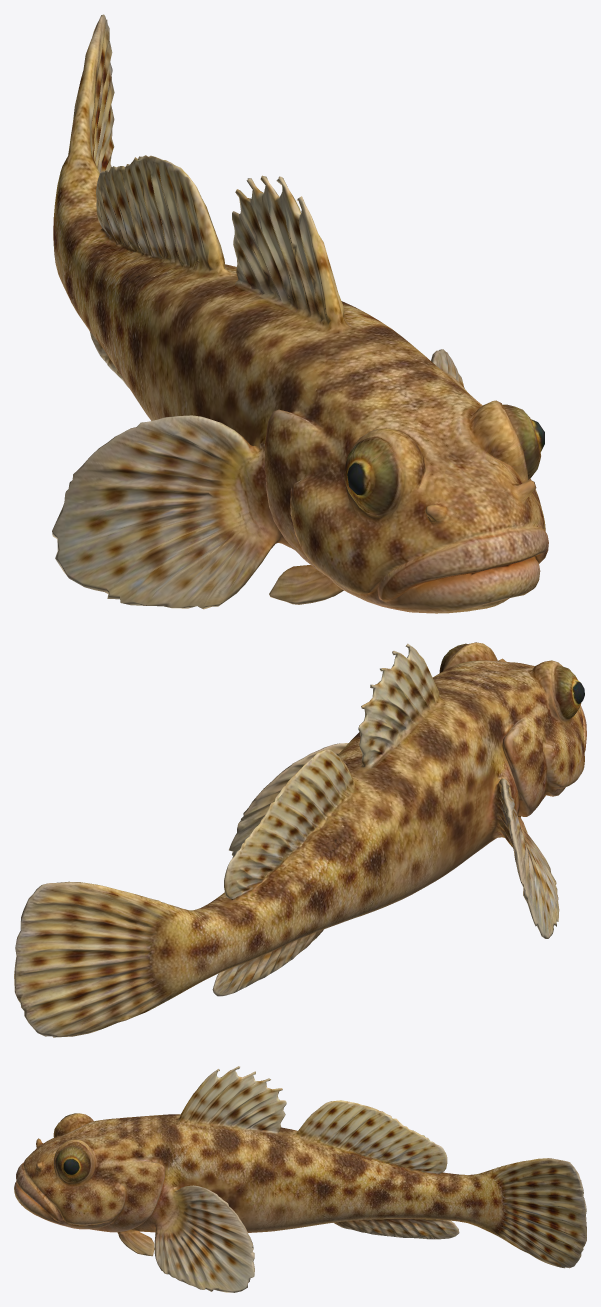
The model's file is Goby.obj.
3 views of the same model, one above another, from view 1: azimuth 30°, elevation 25°; view 2: azimuth 150°, elevation 25°; view 3: azimuth 270°, elevation 25° (orthographic). The views are drawn at different scales.
Size of the model in its own units: 0.4359 by 0.341 by 1.
Materials: 1 (1 with a texture image).
